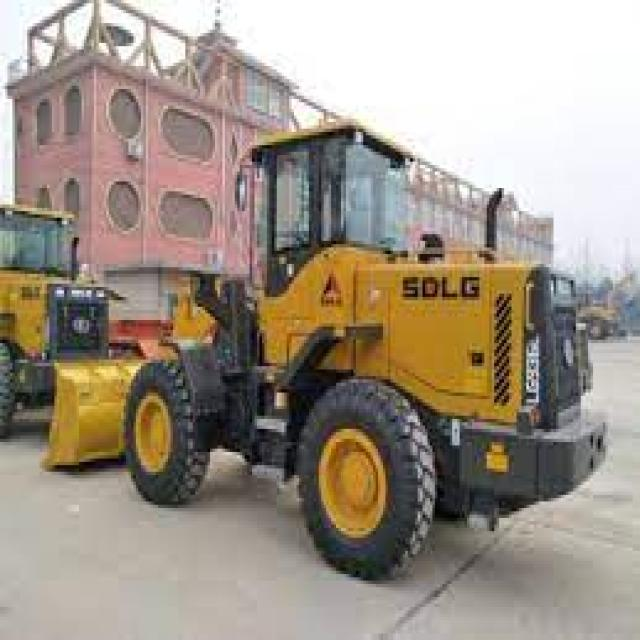buldozerpayloadergrader: (40, 113, 610, 582)
